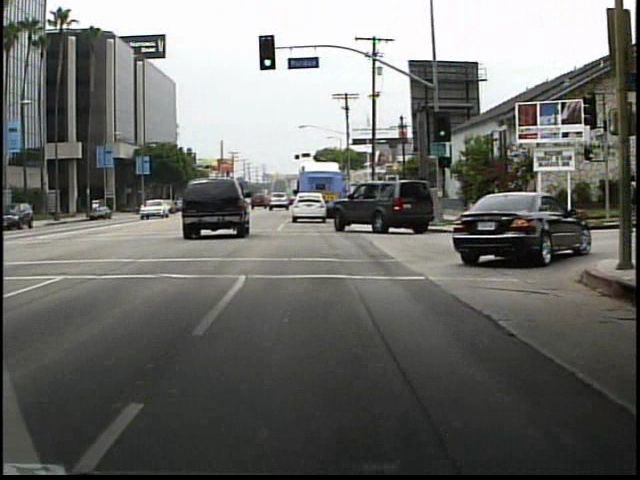person: (479, 176, 512, 237), (519, 171, 542, 226), (616, 172, 636, 235)
